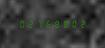eight: (53, 20, 61, 28), (62, 20, 70, 28)
seven: (35, 20, 43, 28)
six: (44, 20, 52, 28)
two: (26, 20, 34, 28), (80, 20, 88, 28)
zero: (17, 20, 25, 28), (71, 20, 79, 28)
